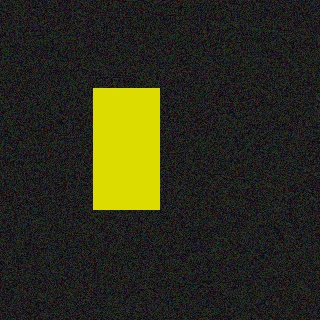yellow_barrel: (93, 88, 160, 210)
